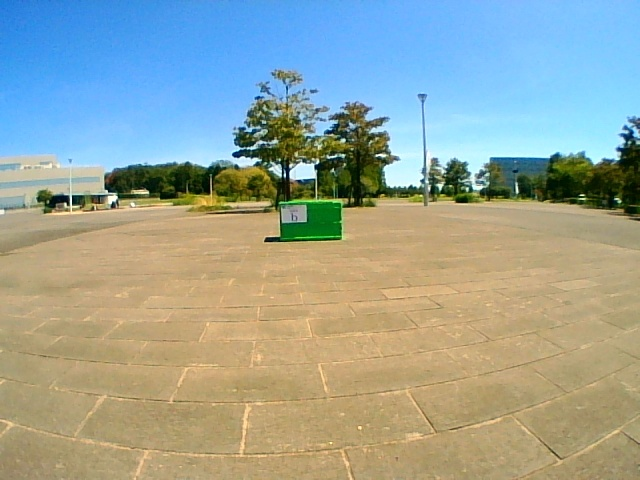green_box: (280, 201, 341, 240)
tag_b: (282, 206, 306, 222)
